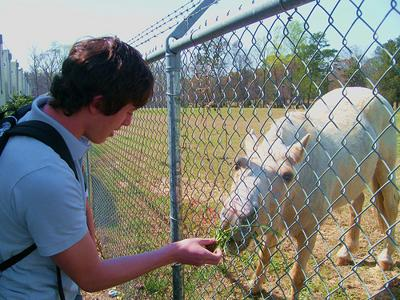person: (2, 37, 219, 298)
